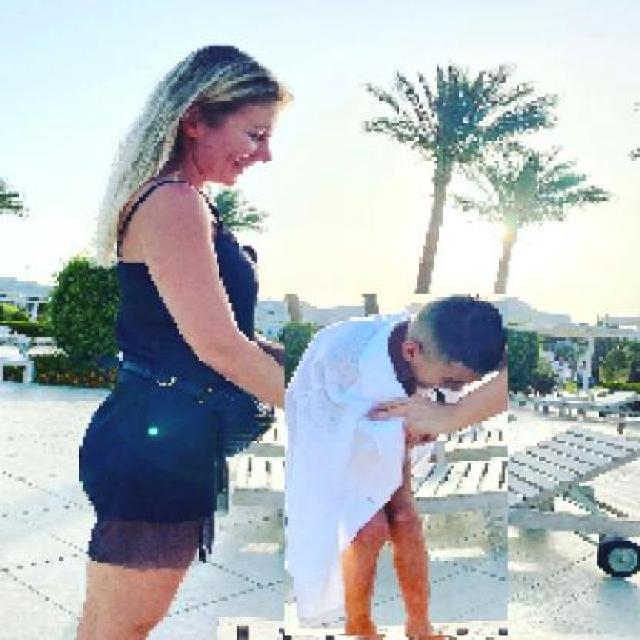child: (283, 294, 508, 637)
